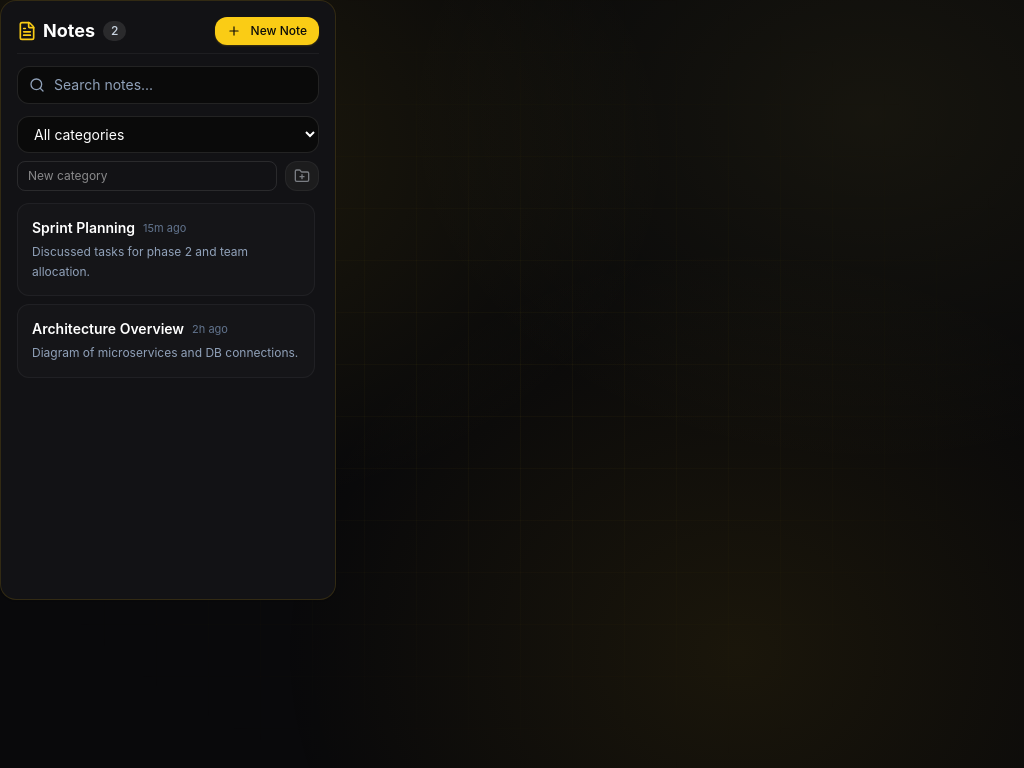
NotesPanel Component & Responsive Dashboard Integration › opens a selected note in a full-screen editor instead of showing it below the list
The image size is (1024, 768).
Expected: the heading "Sprint Planning" is shown, top-left (32, 218), bottom-right (135, 238)
Click the button "Sprint Planning": (166, 250) top-left (17, 203), bottom-right (315, 296)
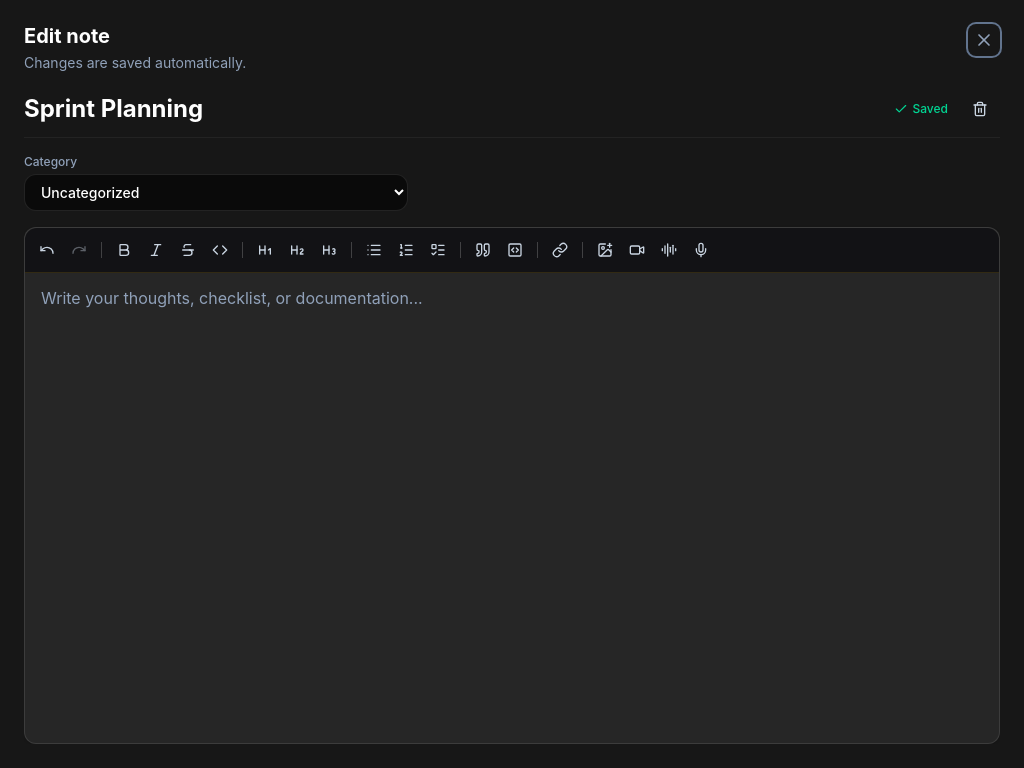
Expected: the dialog is shown
Expected: the field showing "Sprint Planning" is shown, top-left (24, 93), bottom-right (882, 125)
